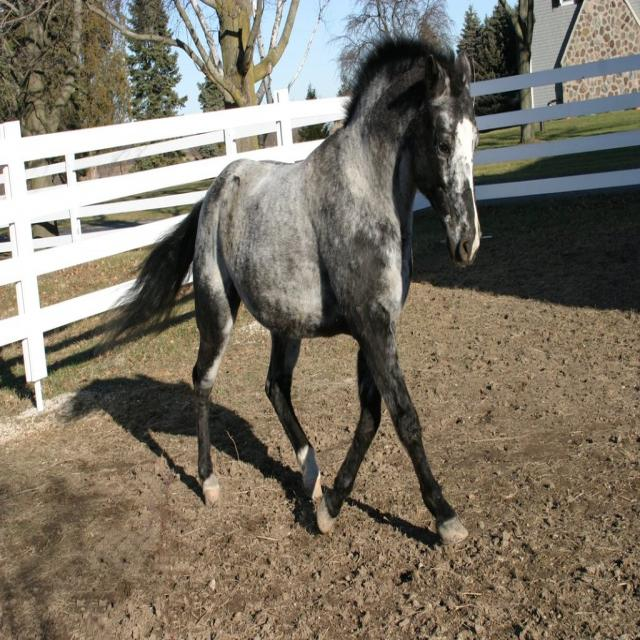Horse: (93, 23, 484, 544)
